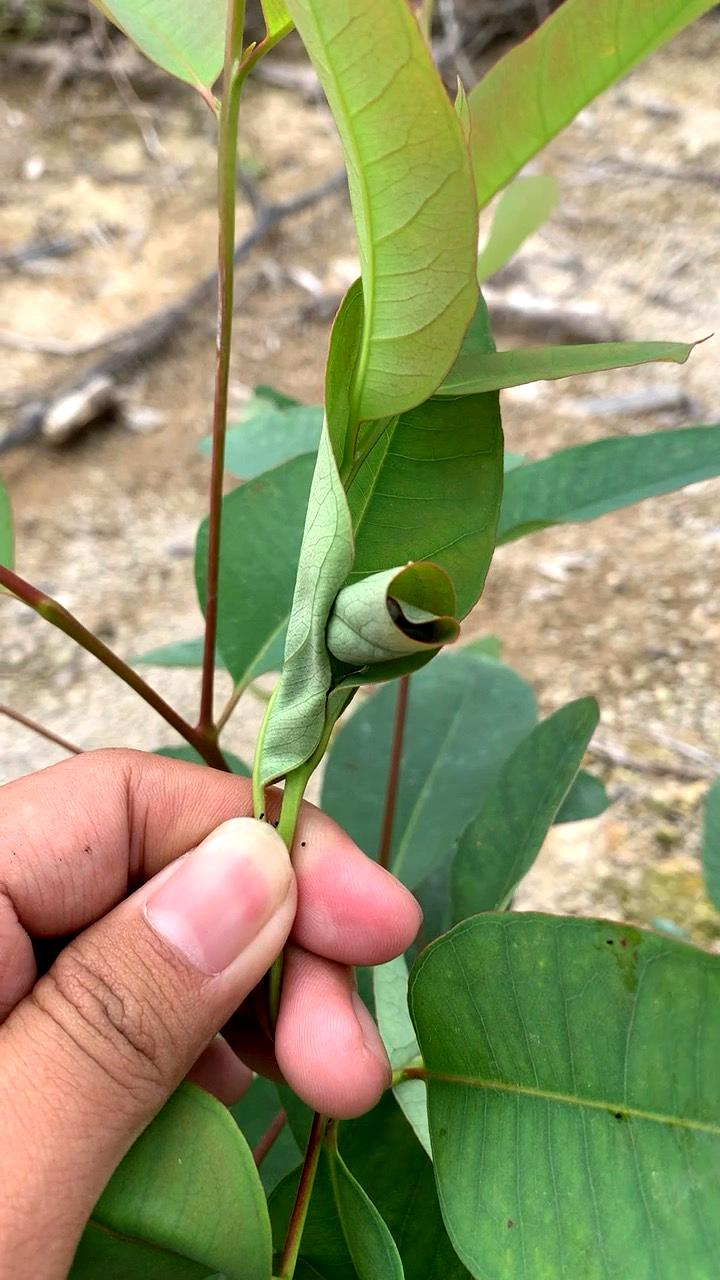Leaf Roller - Leaf: (223, 553, 503, 736)
